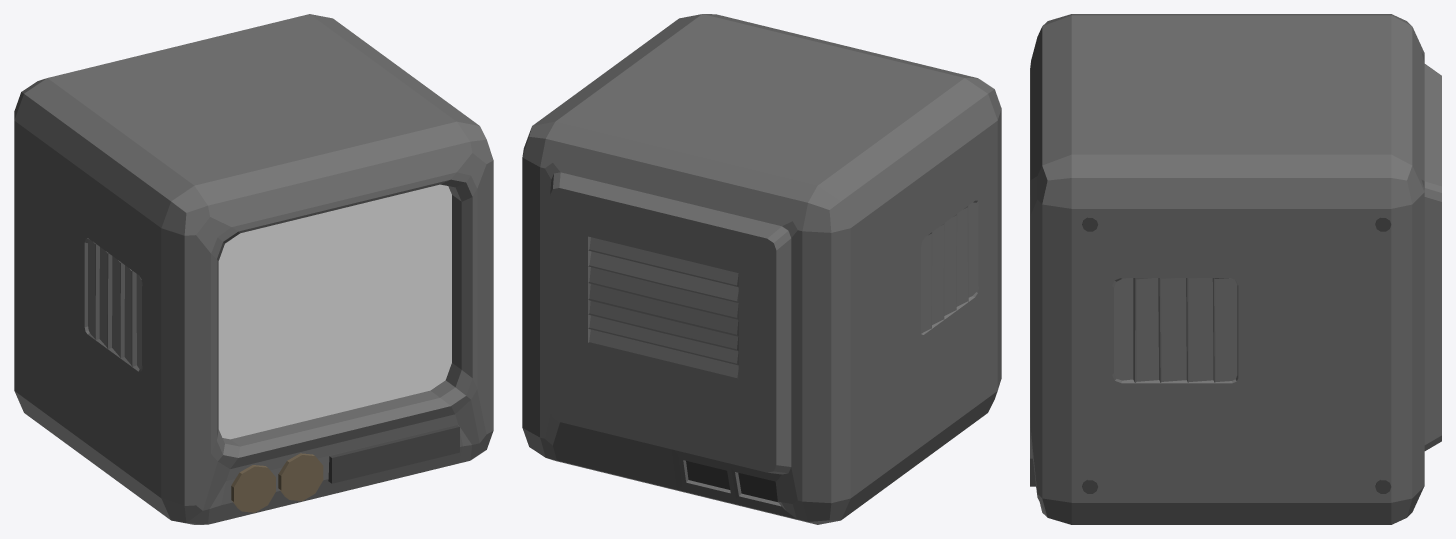
The model's file is TVFinalVersionHopefully.fbx.
3 renders of one model, left to right at view 1: azimuth 30°, elevation 25°; view 2: azimuth 150°, elevation 25°; view 3: azimuth 270°, elevation 25°, orthographic. The views are drawn at different scales.
Parts seen in each view (by area): view 1: TV.001; view 2: TV.001; view 3: TV.001.
Boxes of the visible parts, x1,y1,x2,y2 form: TV.001: (14,14,493,524); TV.001: (522,14,1001,524); TV.001: (1030,14,1441,524).
Size of the model in its own units: 1 by 1 by 1.
